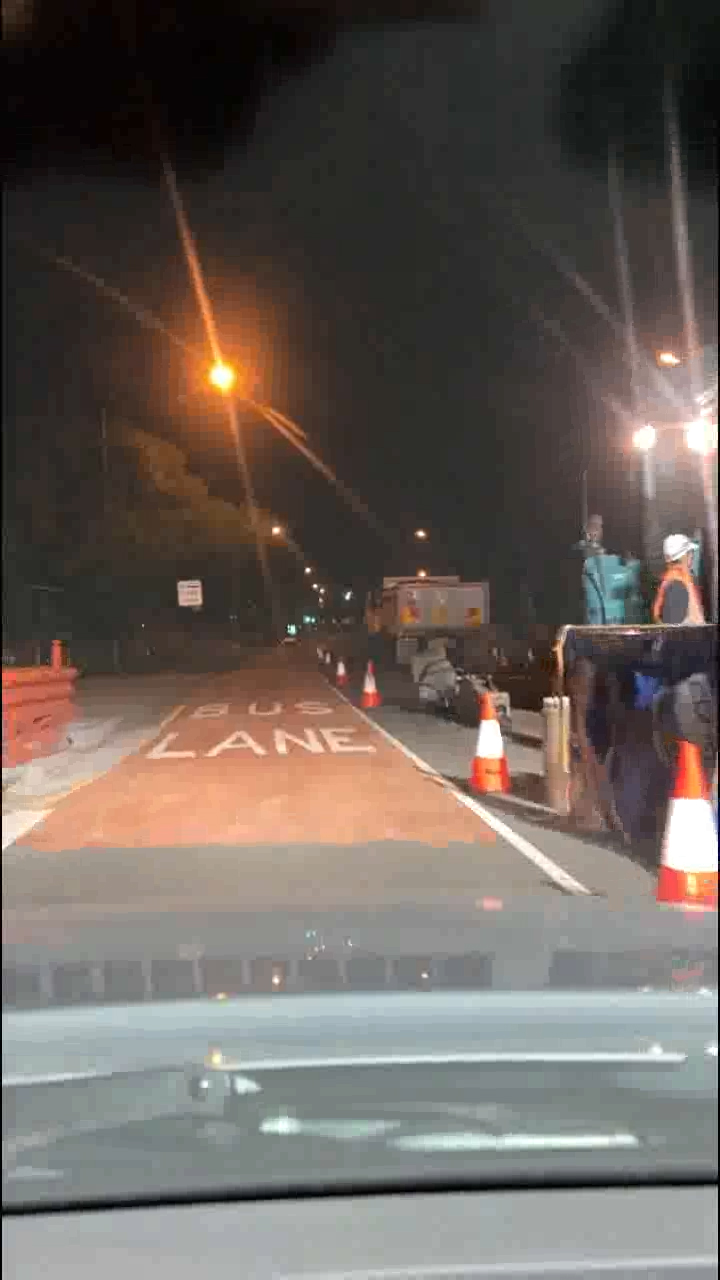person: (618, 538, 706, 630)
road cone: (650, 738, 720, 921), (456, 688, 520, 807), (1, 656, 83, 748), (352, 663, 387, 721), (315, 647, 350, 705)
truck: (366, 555, 501, 661)
